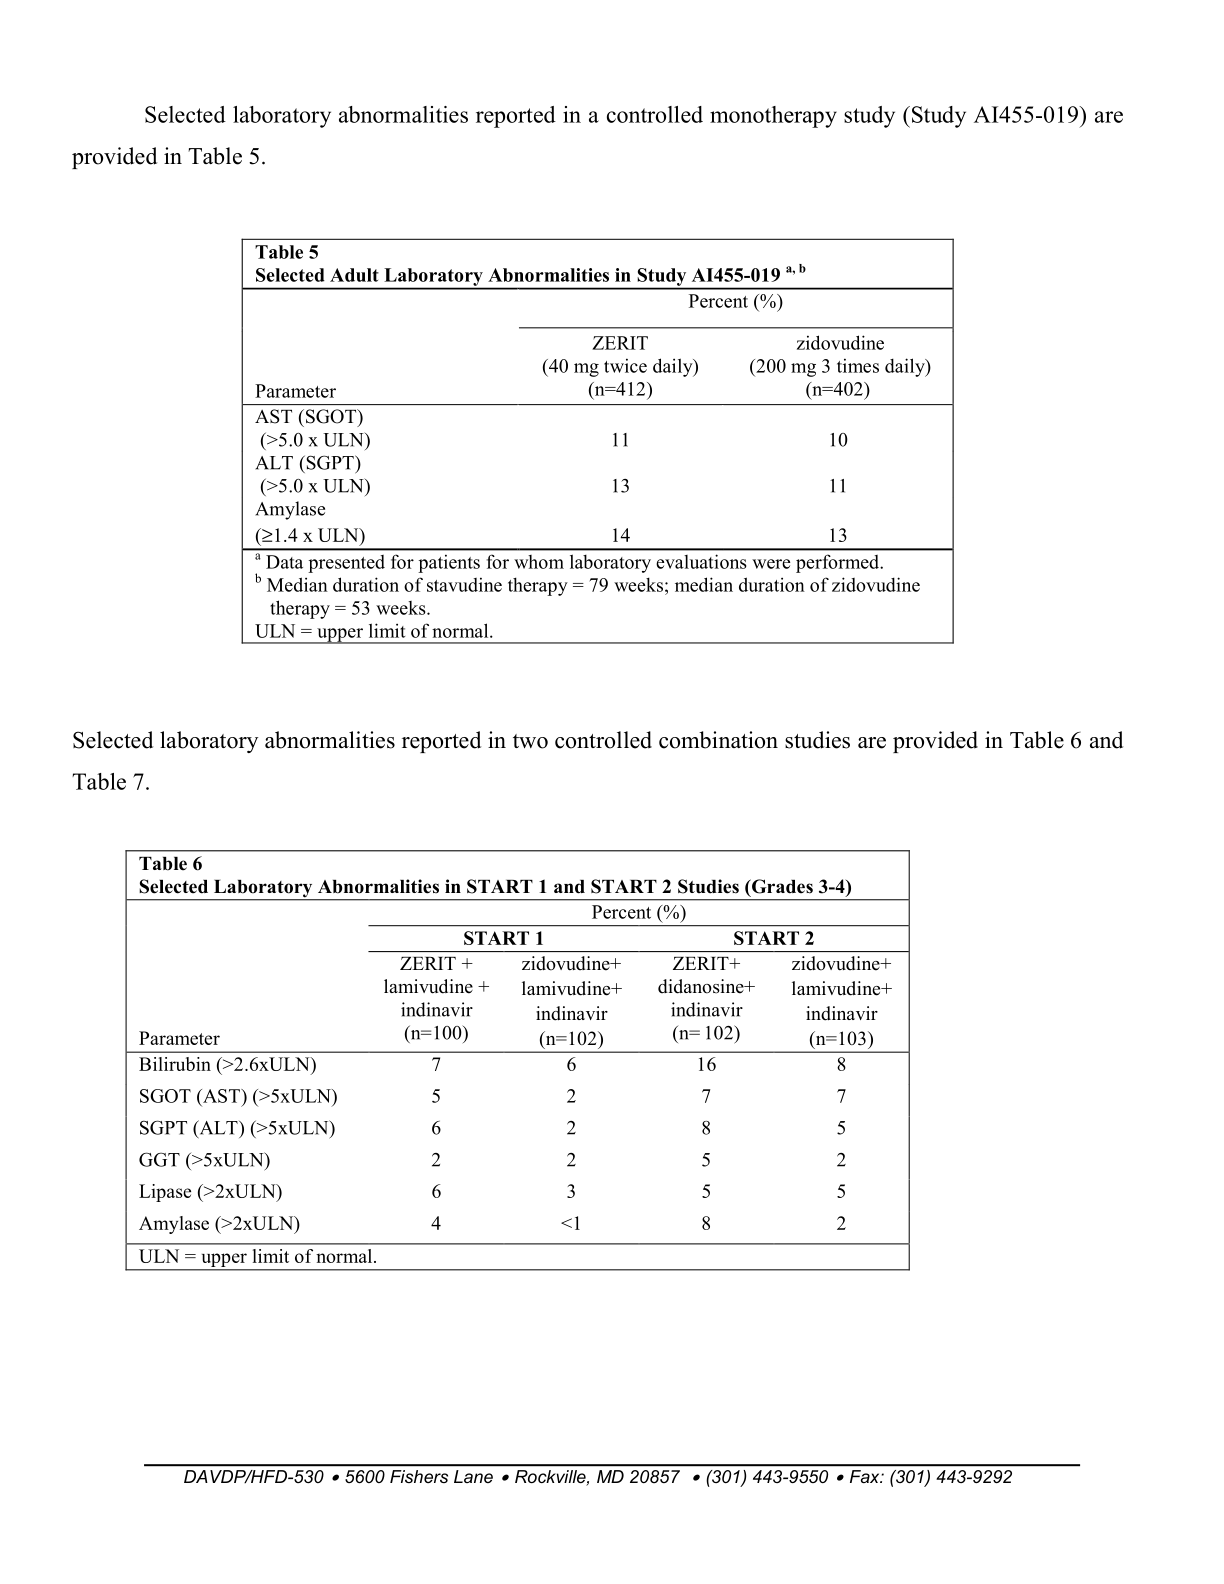partial_lined_merged_cells: (125, 850, 912, 1272), (240, 238, 955, 645)
